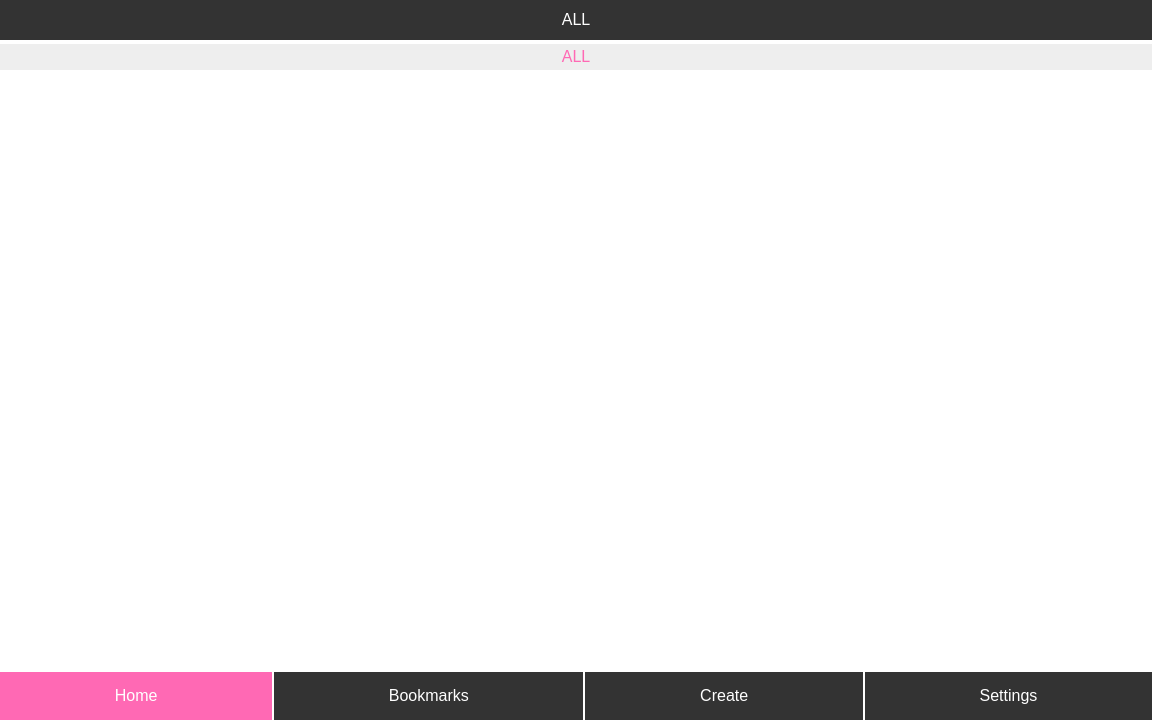
Test: Learning App › Create › shows a card preview with content
The image size is (1152, 720).
Click the link "Create".
click(724, 696)  # box [585,672,862,719]
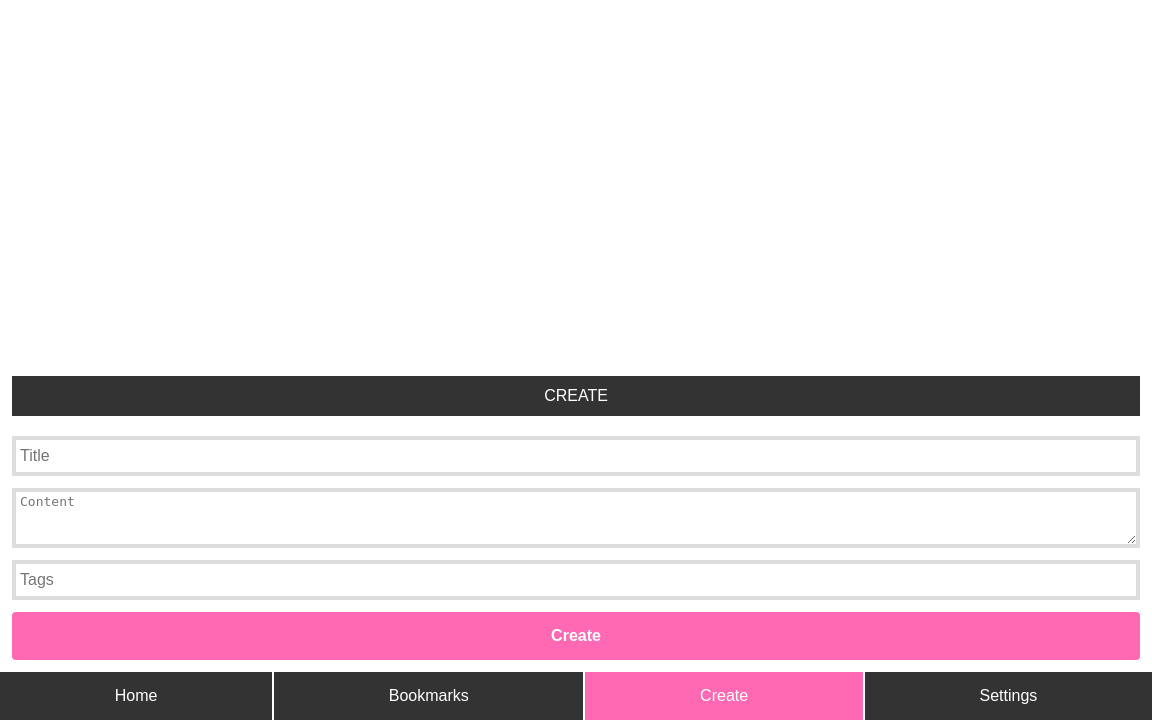
Type "This is the content" into the text box named "content".
click(576, 518); type("This is the content")  # box [12,488,1140,548]
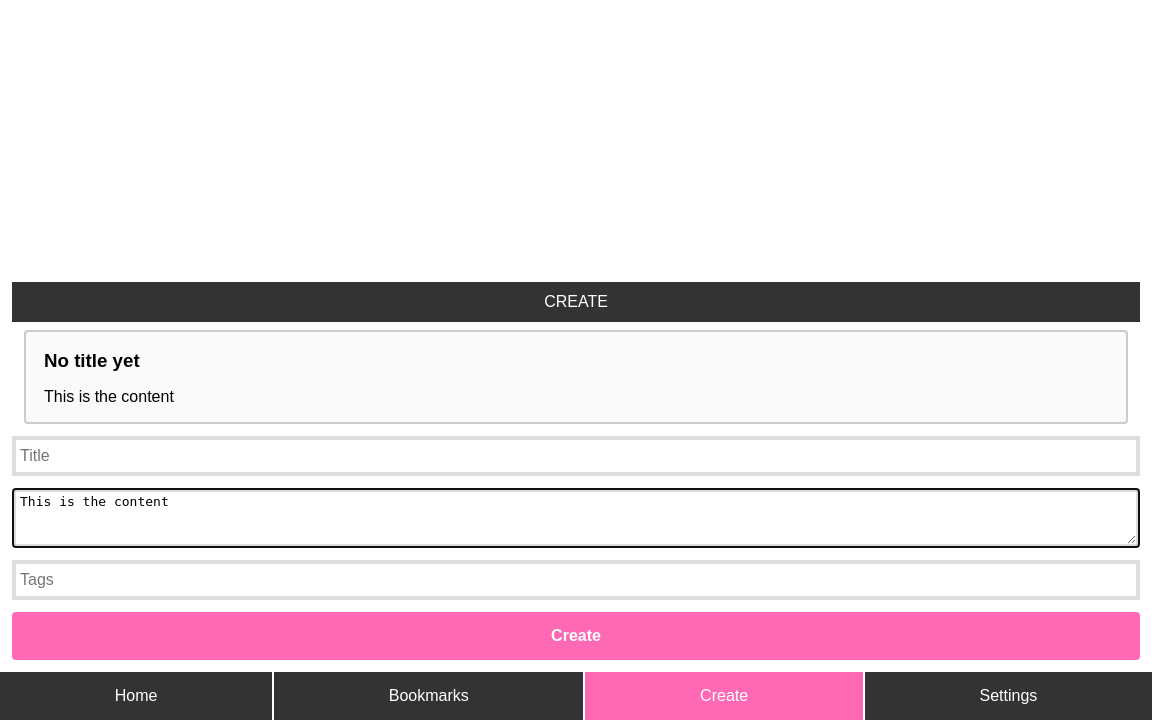
expect the text "This is the content" is shown once: met, box [44,388,174,405]
